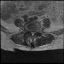CCS_normal: (32, 29, 33, 38)
LFS_severe_stenosis: (35, 30, 36, 35)
LLS_stenosis: (33, 30, 35, 35)
RFS_severe_stenosis: (29, 29, 30, 35)
RLS_stenosis: (30, 30, 32, 35)
